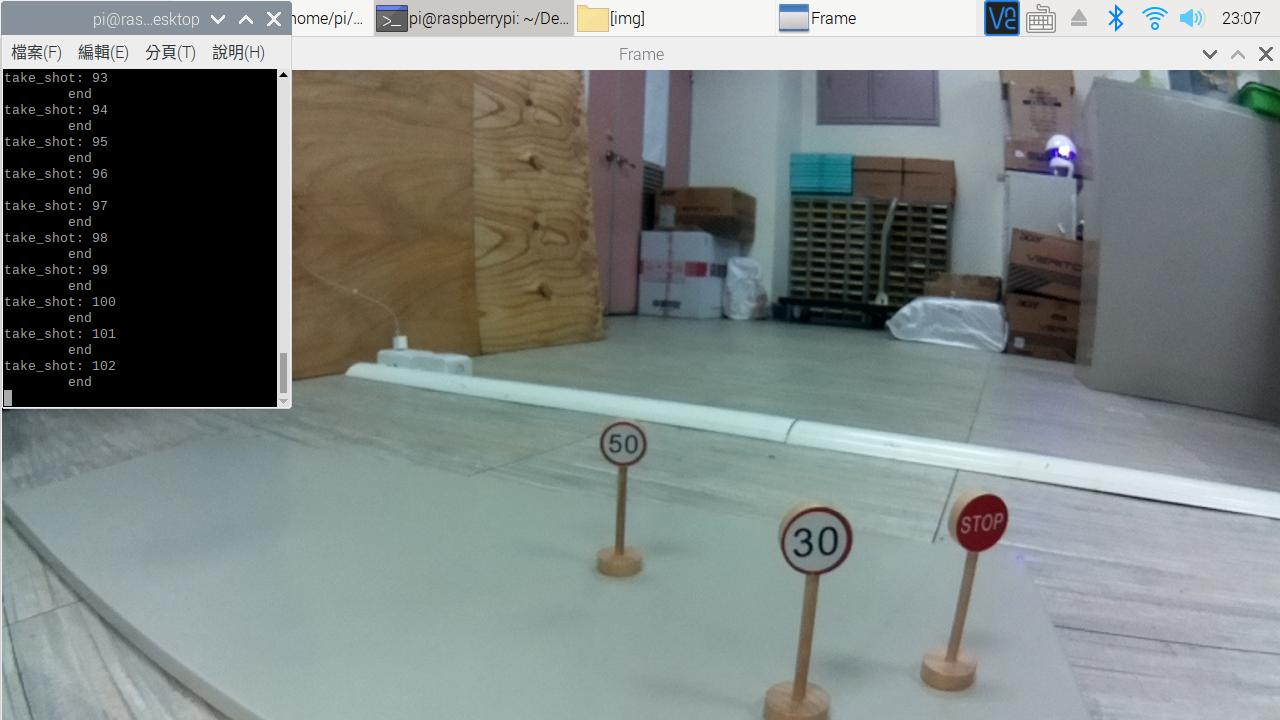Speed30: (774, 501, 861, 583)
Speed50: (599, 414, 646, 477)
Stop: (940, 483, 1027, 560)
